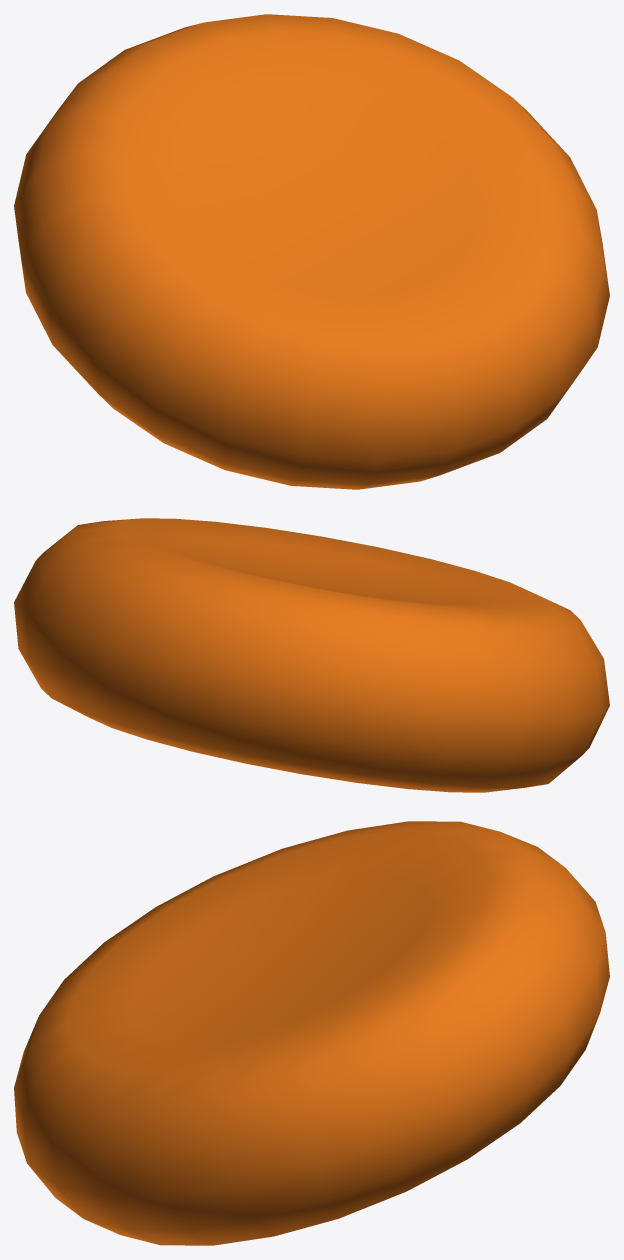
File: ref_bfpumpkinpie.glb
3 renders of one model, top to bottom at view 1: azimuth 30°, elevation 25°; view 2: azimuth 150°, elevation 25°; view 3: azimuth 270°, elevation 25°, orthographic. The views are drawn at different scales.
Parts seen in each view (by area): view 1: ref_bfpumpkinpie; view 2: ref_bfpumpkinpie; view 3: ref_bfpumpkinpie.
Part boxes in pixels (bbox=[...]): ref_bfpumpkinpie: bbox=[14, 14, 609, 489]; ref_bfpumpkinpie: bbox=[14, 518, 609, 792]; ref_bfpumpkinpie: bbox=[14, 821, 609, 1245].
Size of the model in its own units: 1 by 0.5484 by 0.9477.
1 material, 1 textured.
